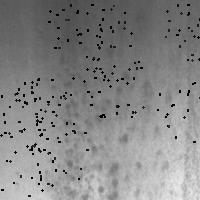pitted_surface: (48, 55, 170, 199), (83, 56, 142, 116), (0, 93, 57, 152), (32, 120, 86, 178), (0, 136, 52, 195), (15, 77, 72, 130), (70, 0, 130, 46), (48, 0, 102, 47), (157, 82, 200, 141), (165, 2, 200, 60)
